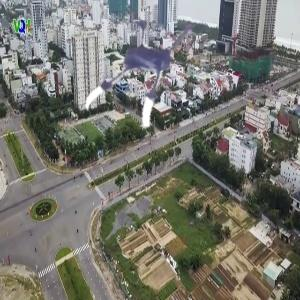drone: (78, 5, 217, 144)
